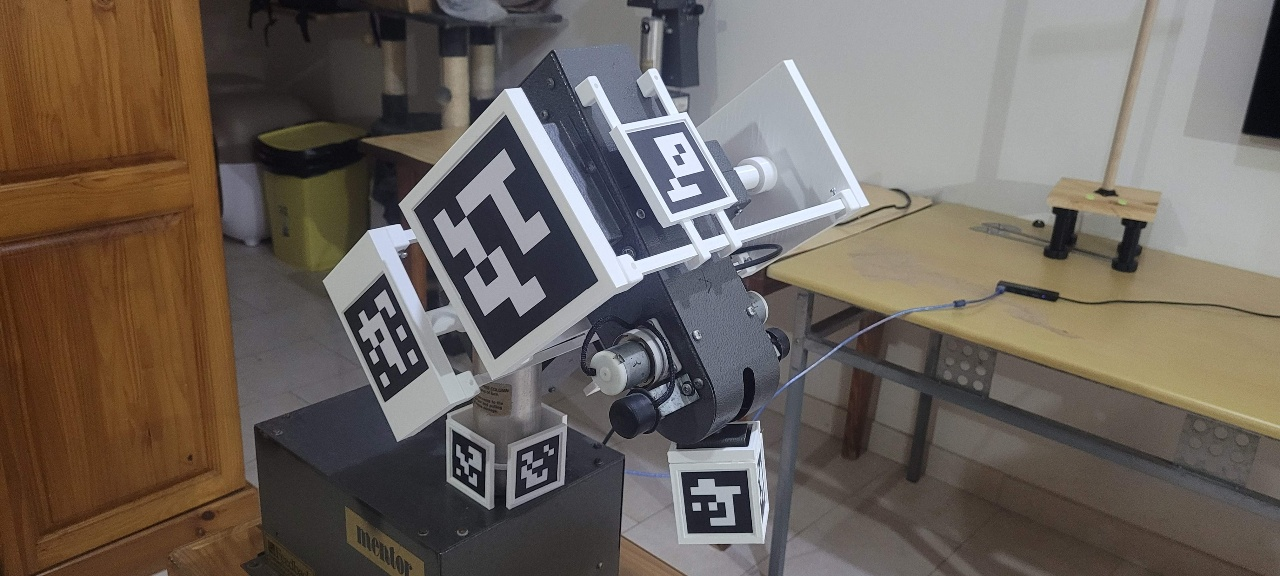Robot: (233, 3, 807, 576)
